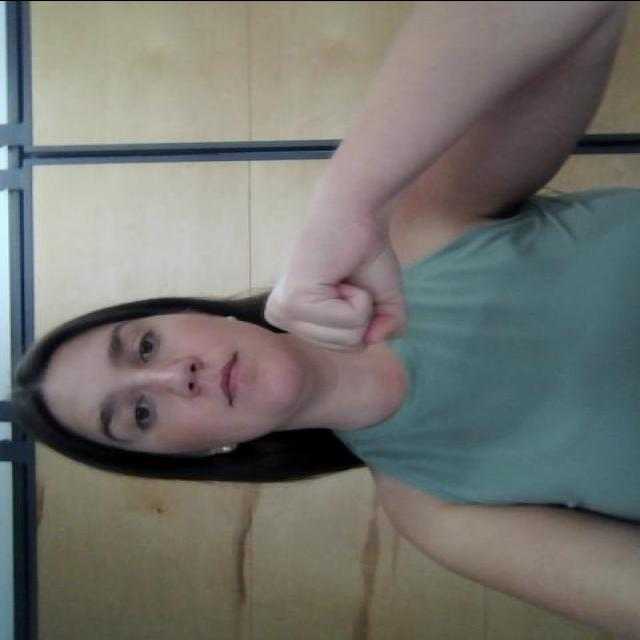Rock: (242, 205, 432, 361)
